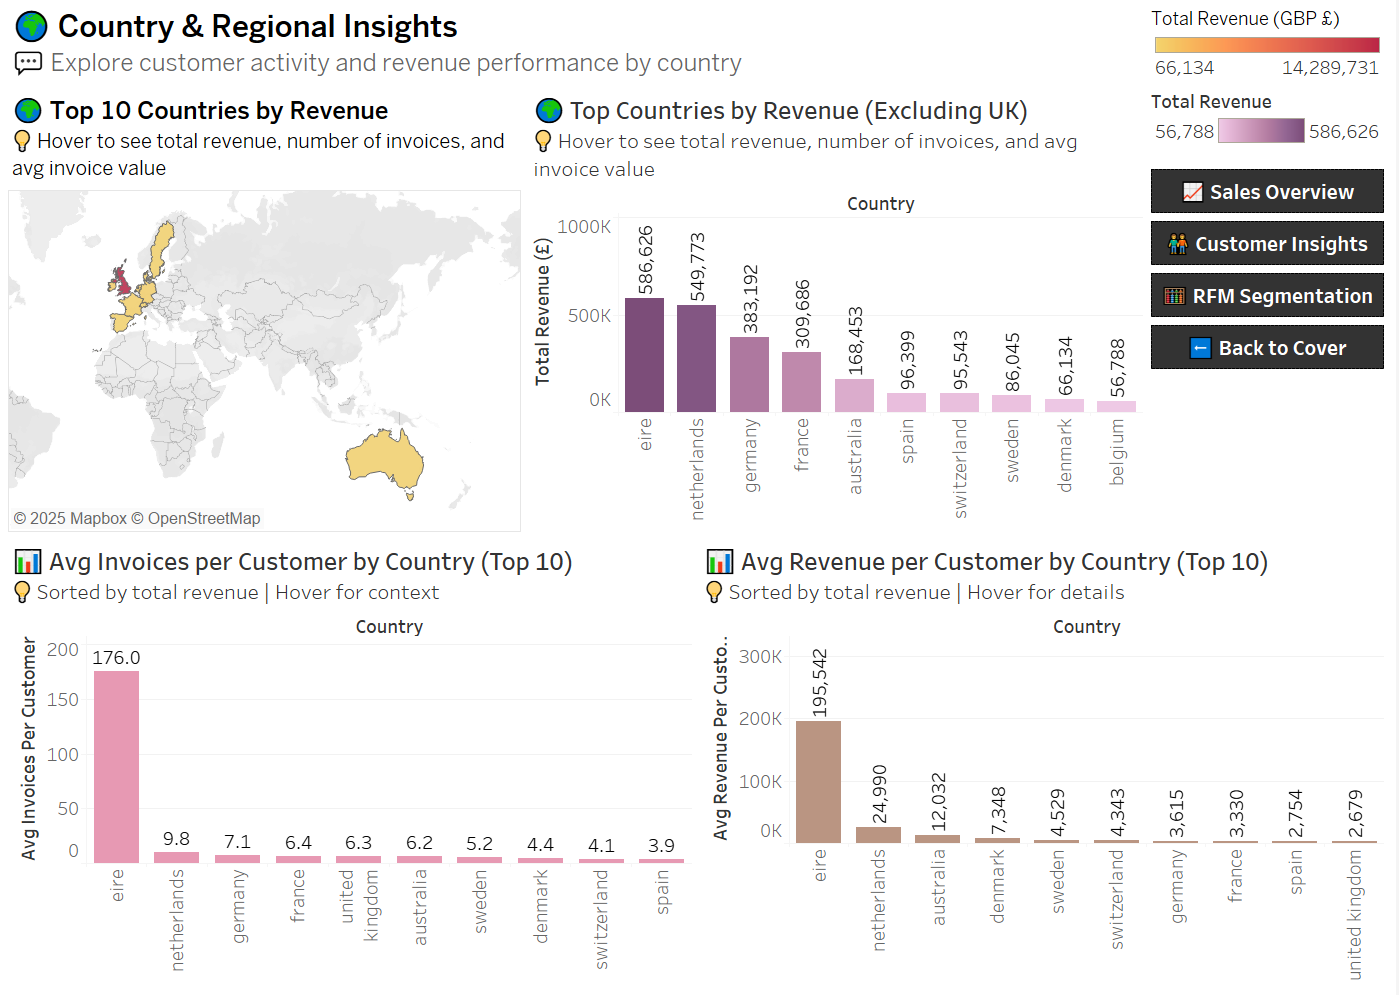

The page's visual inventory and layout, read from the dashboard file:
{"tool":"tableau","page":{"name":"dashboard_2_country_insights","canvas":[1400,1000],"ordinal":2},"visuals":[{"type":"title","box":[8,8,1143,82]},{"type":"legend","title":"04a_revenue_by_country","param":"[federated.0p8h7iv1stbaby1gmhhpg16k91sp].[sum:total_revenue:qk]","box":[1151,8,241,81]},{"type":"legend","title":"04b_revenue_by_country_excl_uk","param":"[federated.1hq1nbu0mcezfc104t31m0fcyyuz].[sum:total_revenue:qk]","box":[1151,89,241,81]},{"type":"worksheet","title":"04a_revenue_by_country","mark":"Multipolygon","box":[8,90,520.8,451]},{"type":"worksheet","title":"04b_revenue_by_country_excl_uk","mark":"Bar","rows":["total_revenue"],"cols":["country"],"box":[528.8,90,622.2,451]},{"type":"dashboard-object","box":[1151,170,241,52]},{"type":"dashboard-object","box":[1151,222,241,52]},{"type":"dashboard-object","box":[1151,274,241,52]},{"type":"dashboard-object","box":[1151,326,241,52]},{"type":"worksheet","title":"05a_avg_invoices_by_country","mark":"Automatic","rows":["avg_invoices_per_customer"],"cols":["country"],"box":[8,541,692,451]},{"type":"worksheet","title":"05b_avg_revenue_by_country","mark":"Automatic","rows":["avg_revenue_per_customer"],"cols":["country"],"box":[700,541,692,451]}]}

Visuals, with their boxes in screenshot pixels (x1, y1, x2, y2), scaled from the page's 1400x1000 canvas onto the 1399x995 screenshot:
title: (8,8,1150,90)
"04a_revenue_by_country" legend: (1150,8,1391,89)
"04b_revenue_by_country_excl_uk" legend: (1150,89,1391,169)
"04a_revenue_by_country" worksheet (Multipolygon marks): (8,90,528,538)
"04b_revenue_by_country_excl_uk" worksheet (Bar marks): (528,90,1150,538)
dashboard-object: (1150,169,1391,221)
dashboard-object: (1150,221,1391,273)
dashboard-object: (1150,273,1391,324)
dashboard-object: (1150,324,1391,376)
"05a_avg_invoices_by_country" worksheet: (8,538,700,987)
"05b_avg_revenue_by_country" worksheet: (700,538,1391,987)
